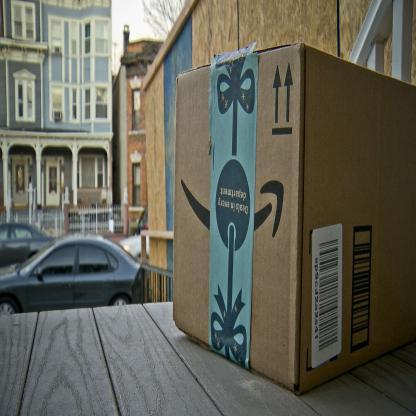package: (173, 39, 415, 402)
